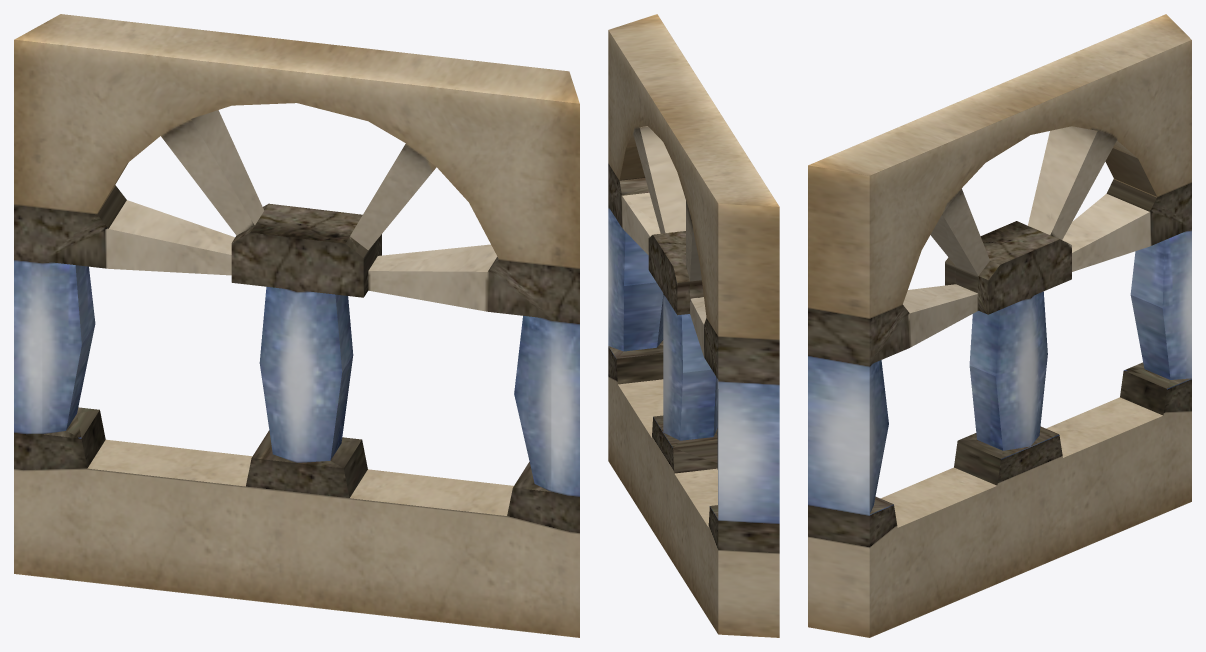
Rendered from P_Modul_03_Wall05.obj.
3 views of the same model, side by side, from view 1: azimuth 30°, elevation 25°; view 2: azimuth 150°, elevation 25°; view 3: azimuth 270°, elevation 25° (orthographic). The views are drawn at different scales.
Visible parts, largest first — view 1: P_Modul_03_Wall05; view 2: P_Modul_03_Wall05; view 3: P_Modul_03_Wall05.
Part boxes in pixels (bbox=[...]): P_Modul_03_Wall05: bbox=[14, 14, 579, 637]; P_Modul_03_Wall05: bbox=[608, 14, 779, 637]; P_Modul_03_Wall05: bbox=[808, 14, 1191, 637].
Size of the model in its own units: 5.47 by 7.28 by 5.48.
